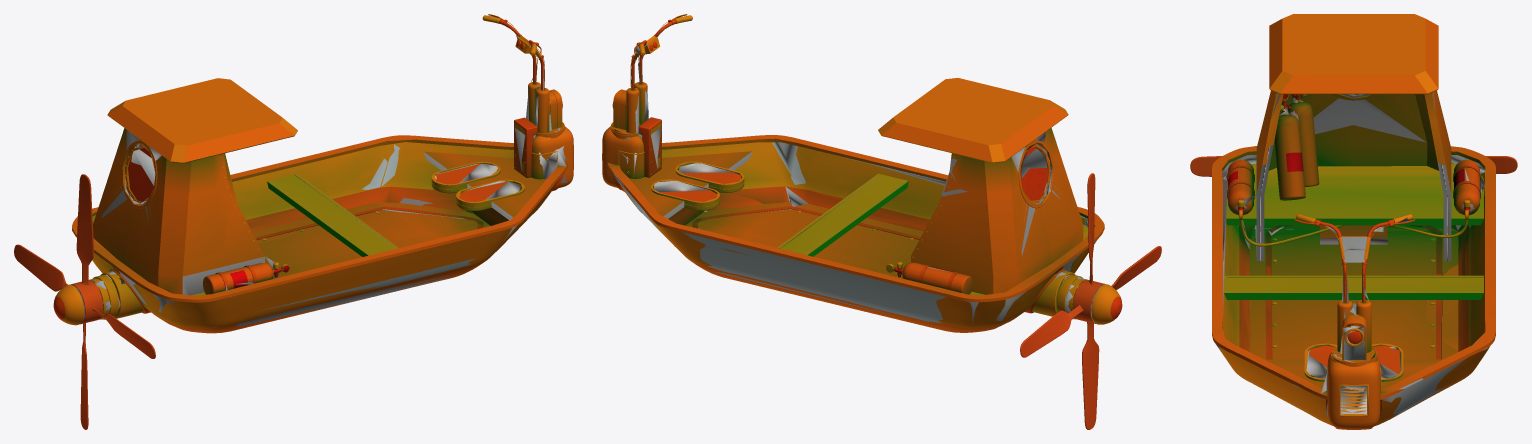
The model's file is KB3D_CSK_PropFlyingBoat_A.glb.
The picture shows the model from 3 angles, left to right: view 1: azimuth 30°, elevation 25°; view 2: azimuth 150°, elevation 25°; view 3: azimuth 270°, elevation 25°; orthographic projection. The views are drawn at different scales.
Visible parts, largest first — view 1: L0, L1, L2; view 2: L0, L1, L2; view 3: L0, L1, L2.
Part boxes in pixels (x1=…): L0: x1=14, y1=14, x2=573, y2=429; L1: x1=14, y1=14, x2=564, y2=428; L2: x1=63, y1=16, x2=567, y2=410; L0: x1=602, y1=14, x2=1161, y2=429; L1: x1=611, y1=15, x2=1160, y2=428; L2: x1=610, y1=33, x2=1103, y2=413; L0: x1=1190, y1=90, x2=1517, y2=429; L1: x1=1193, y1=14, x2=1515, y2=416; L2: x1=1216, y1=92, x2=1488, y2=418.
Bounding box in the file's own units: 4.6 × 2.52 × 2.19.
